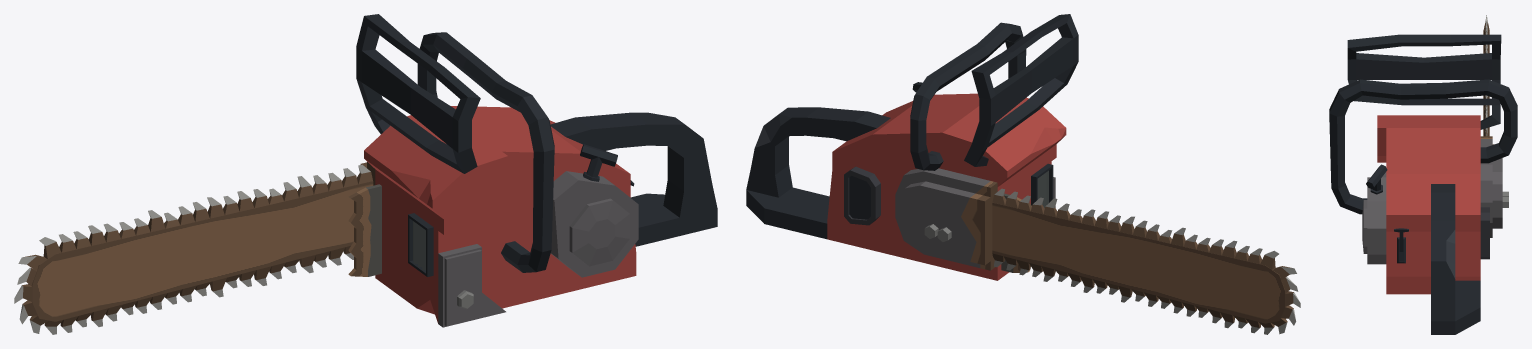
Rendered from SM_Chainsaw.gltf.
3 views of the same model, side by side, from view 1: azimuth 30°, elevation 25°; view 2: azimuth 150°, elevation 25°; view 3: azimuth 270°, elevation 25° (orthographic). The views are drawn at different scales.
Parts seen in each view (by area): view 1: SM_Chainsaw; view 2: SM_Chainsaw; view 3: SM_Chainsaw.
Boxes of the visible parts, x1=… form: SM_Chainsaw: x1=14, y1=14, x2=717, y2=334; SM_Chainsaw: x1=746, y1=14, x2=1300, y2=334; SM_Chainsaw: x1=1329, y1=15, x2=1517, y2=334.
Size of the model in its own units: 1.19 by 0.4284 by 0.3887.
Materials: 1 (1 with a texture image).
